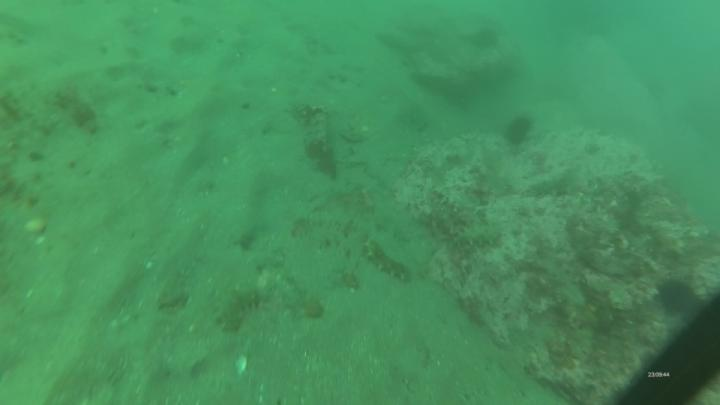echinus: (663, 275, 702, 322), (507, 112, 532, 147)
holothurian: (221, 284, 270, 334), (365, 239, 416, 285), (447, 225, 508, 251)
